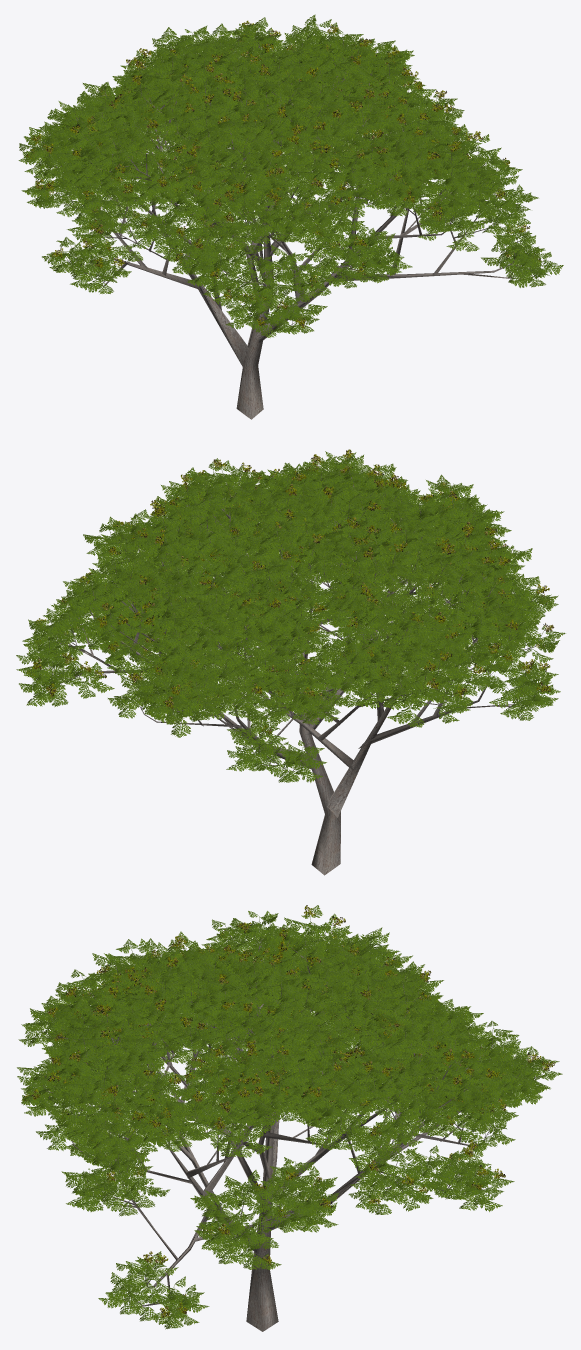
Rendered from Melia azedarach HD_Wild no flower mat 50_LOD4.fbx.
3 views of the same model, one above another, from view 1: azimuth 30°, elevation 25°; view 2: azimuth 150°, elevation 25°; view 3: azimuth 270°, elevation 25° (orthographic). The views are drawn at different scales.
Visible parts, largest first — view 1: Melia_azedarach_HD; view 2: Melia_azedarach_HD; view 3: Melia_azedarach_HD.
Part boxes in pixels (bbox=[...]): Melia_azedarach_HD: bbox=[18, 14, 563, 419]; Melia_azedarach_HD: bbox=[16, 449, 565, 875]; Melia_azedarach_HD: bbox=[17, 905, 562, 1331].
Size of the model in its own units: 8.71 by 6.41 by 8.34.
